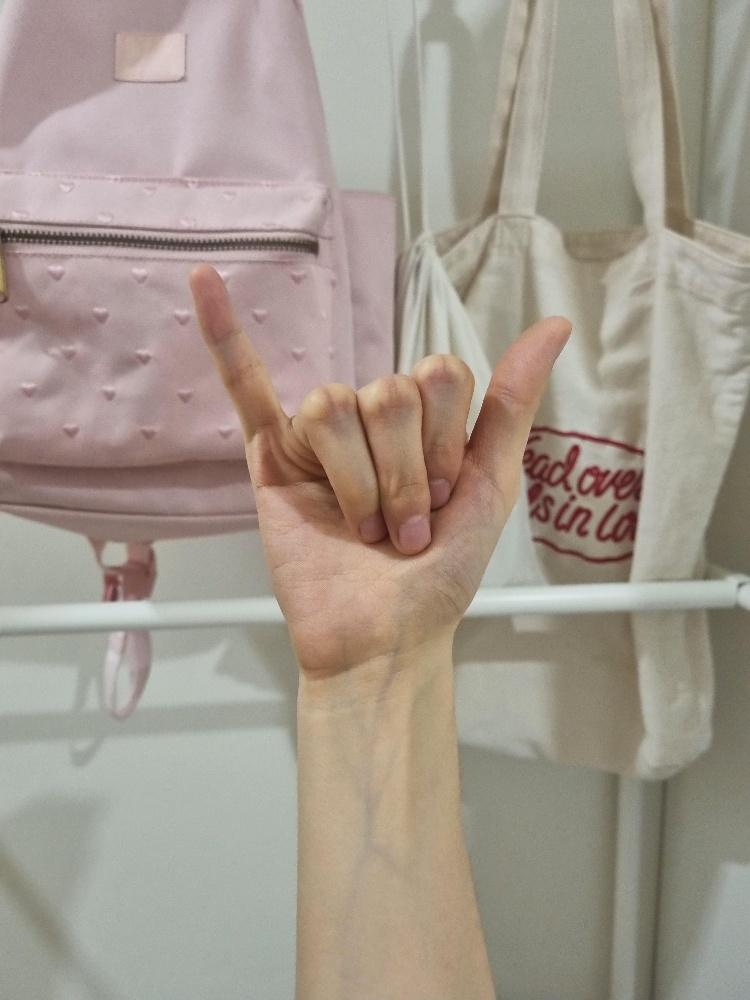y: (185, 255, 573, 677)
